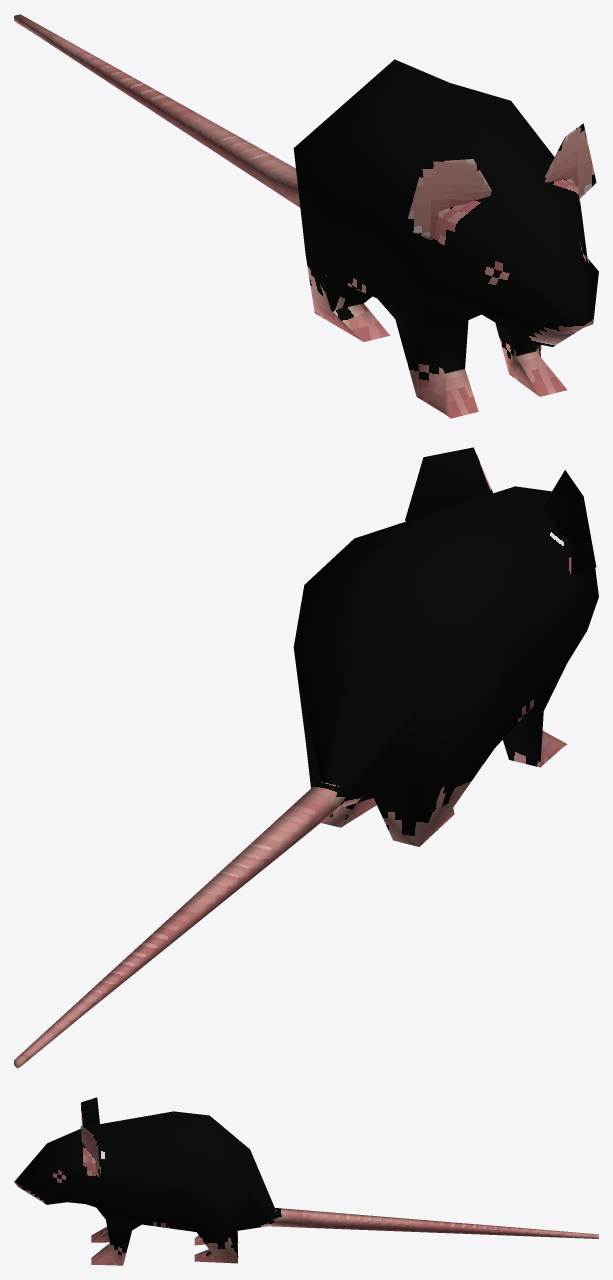
The model's file is rat.fbx.
The picture shows the model from 3 angles, top to bottom: view 1: azimuth 30°, elevation 25°; view 2: azimuth 150°, elevation 25°; view 3: azimuth 270°, elevation 25°; orthographic projection. The views are drawn at different scales.
Visible parts, largest first — view 1: Cube; view 2: Cube; view 3: Cube.
Part boxes in pixels (x1,y1,x2,y2): Cube: (14, 14, 598, 418); Cube: (14, 447, 598, 1068); Cube: (14, 1097, 598, 1265).
Bounding box in the file's own units: 0.1615 × 0.2064 × 0.7879.
